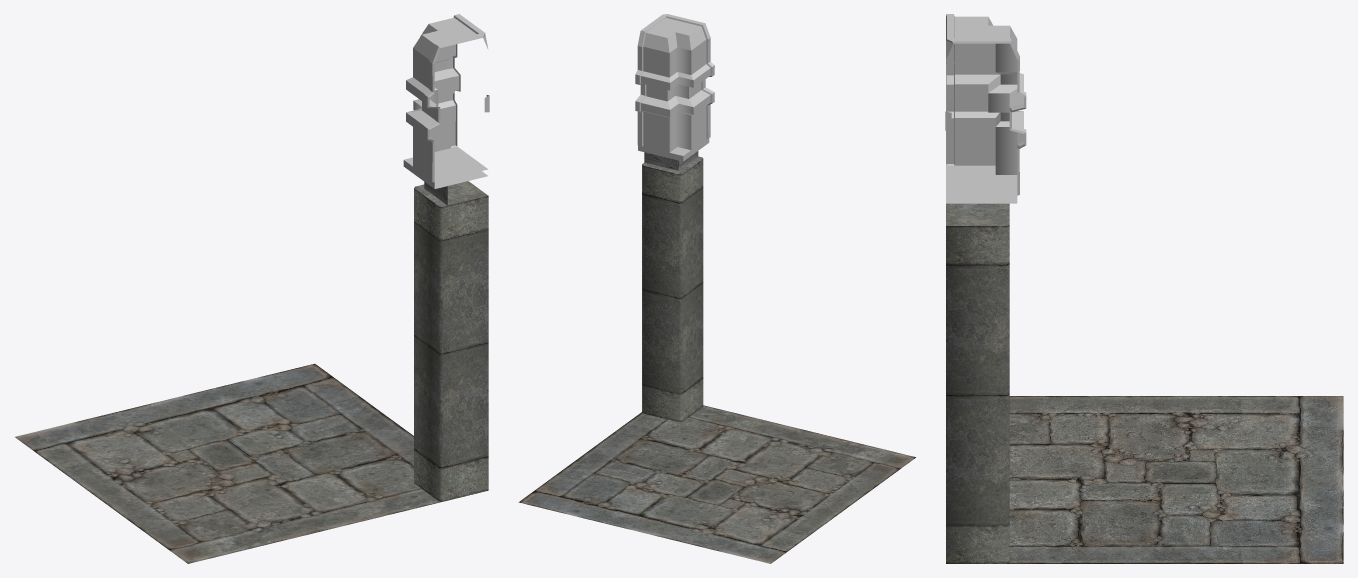
Rendered from UnderCorner2.FBX.
3 views of the same model, side by side, from view 1: azimuth 30°, elevation 25°; view 2: azimuth 150°, elevation 25°; view 3: azimuth 270°, elevation 25° (orthographic). The views are drawn at different scales.
Parts seen in each view (by area): view 1: Object01; view 2: Object01; view 3: Object01.
Part boxes in pixels (x1=…): Object01: x1=15, y1=14, x2=489, y2=563; Object01: x1=518, y1=14, x2=915, y2=563; Object01: x1=945, y1=14, x2=1343, y2=563.
Size of the model in its own units: 501 by 725 by 501.
